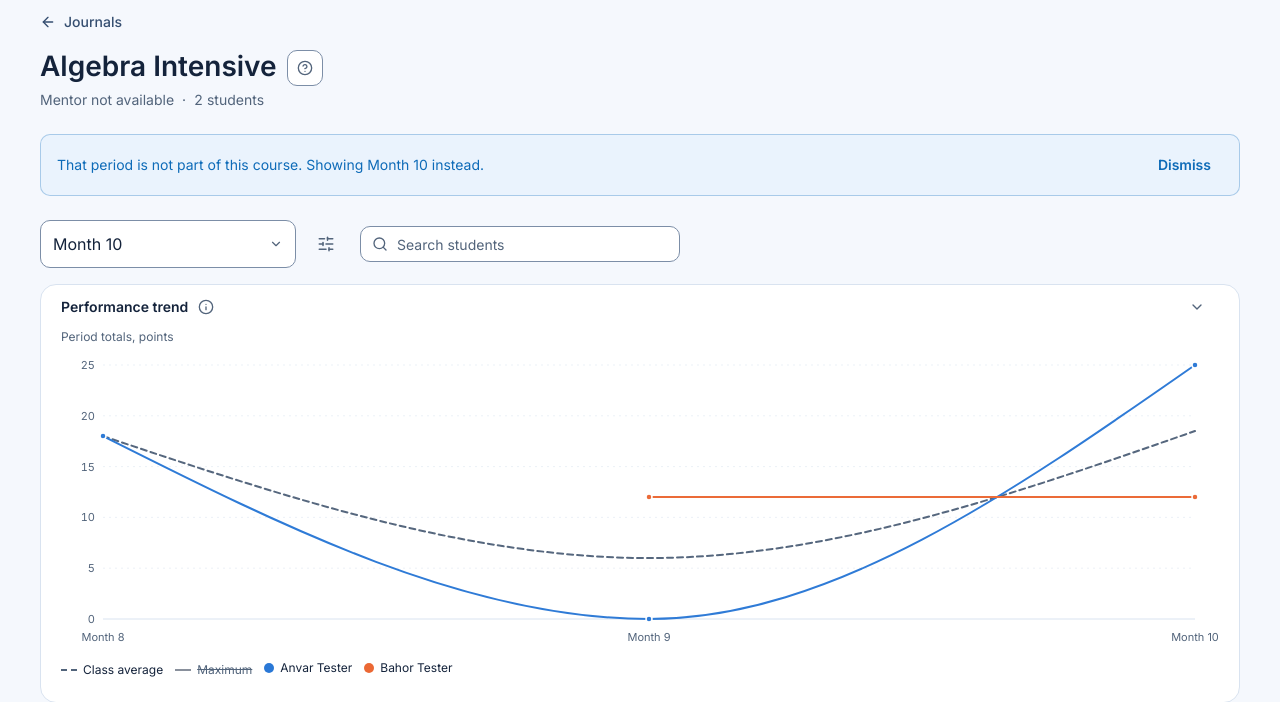
period selection › dismisses the notice and keeps the normalized context
The image size is (1280, 702).
Click the button "Dismiss" at (1184, 165), box [1146, 143, 1223, 187]
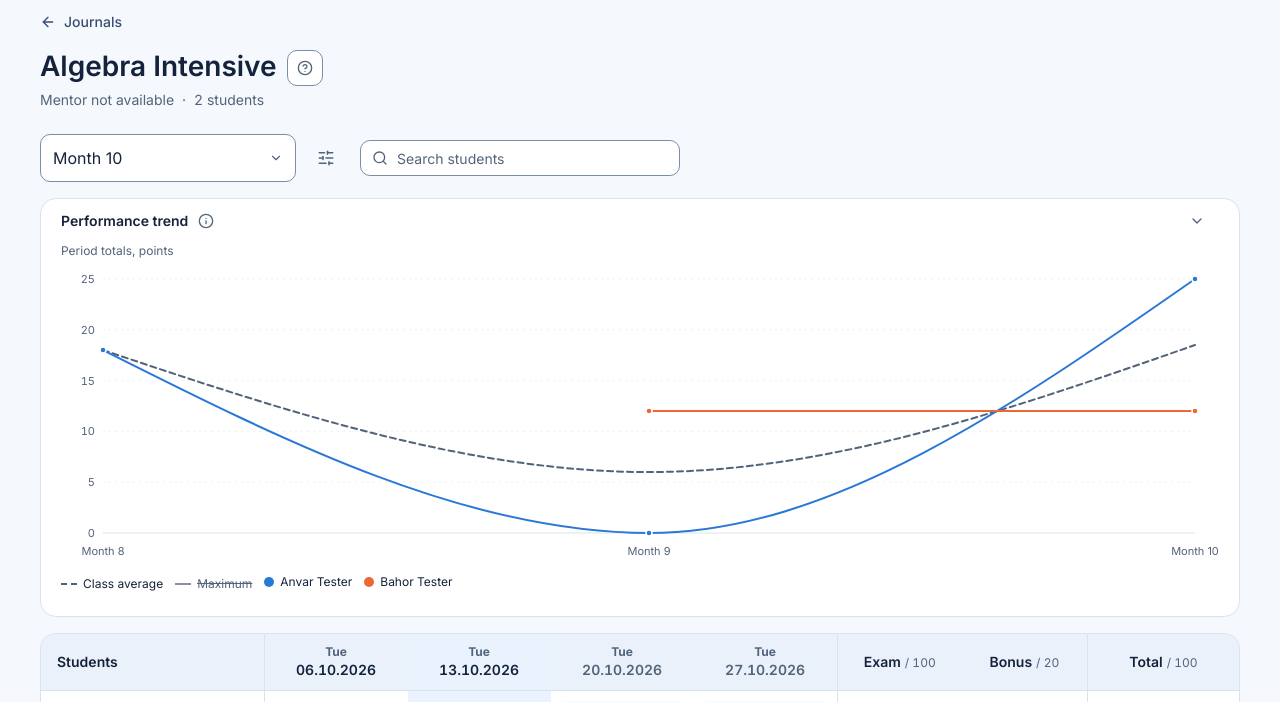
Expected: the text "Month 10" is shown, [53, 148, 122, 168]
Result: the message with test id "journal-route-notice-period" is gone
